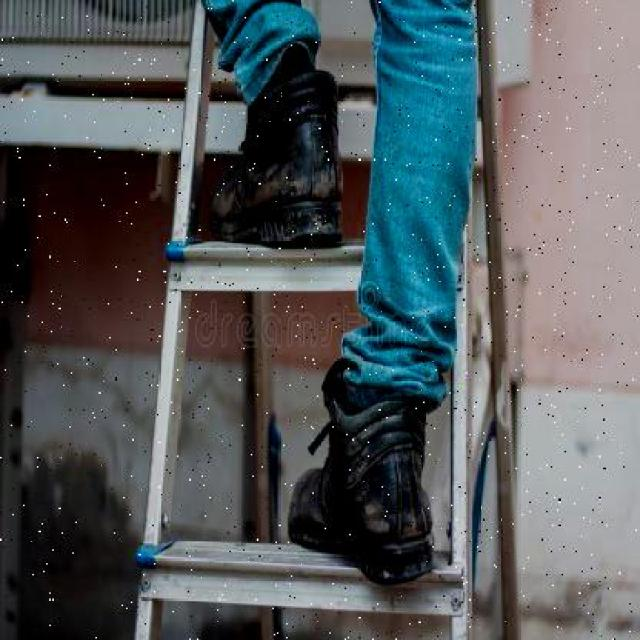shoes: (287, 388, 442, 586), (208, 74, 346, 261)
